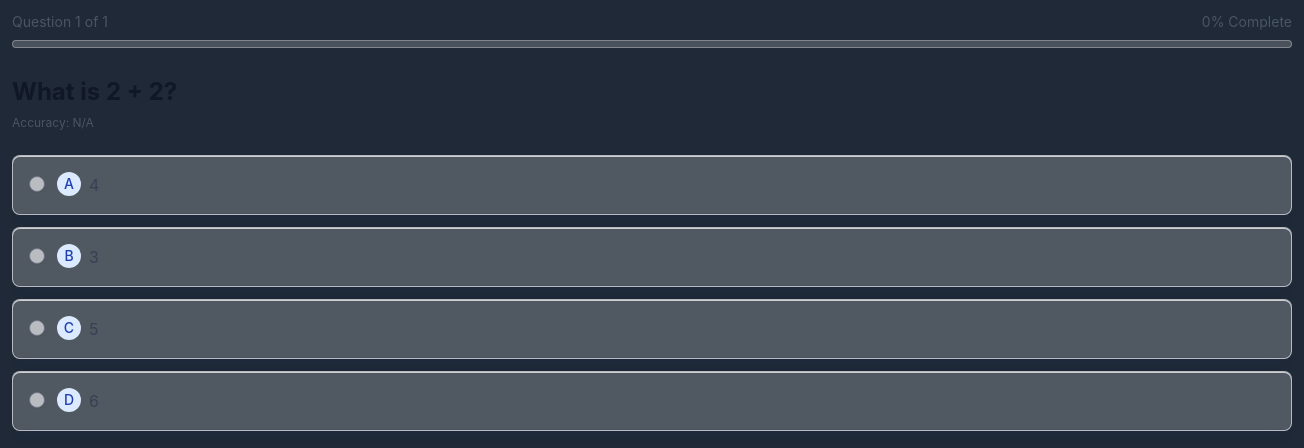
Test: QuestionQuiz › submits the mapped-back answer, then reports Finish Quiz
What coordinates should you click on to do the following:
click the radio button labelled "A 4"
I would click on:
 (37, 184)
Its box is [29, 176, 45, 192].
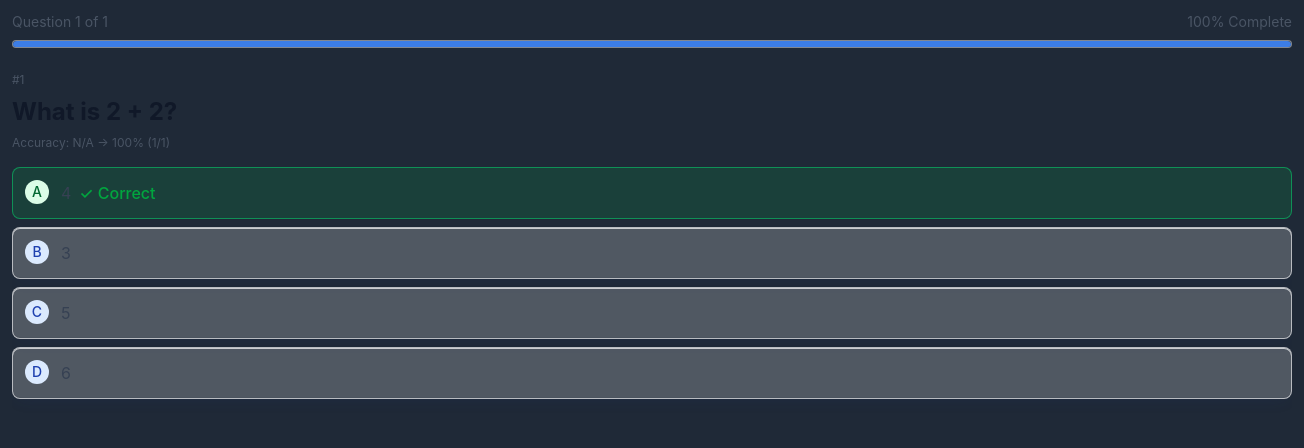
Expected: the text "✓ Correct" is shown, [79, 183, 156, 203]
